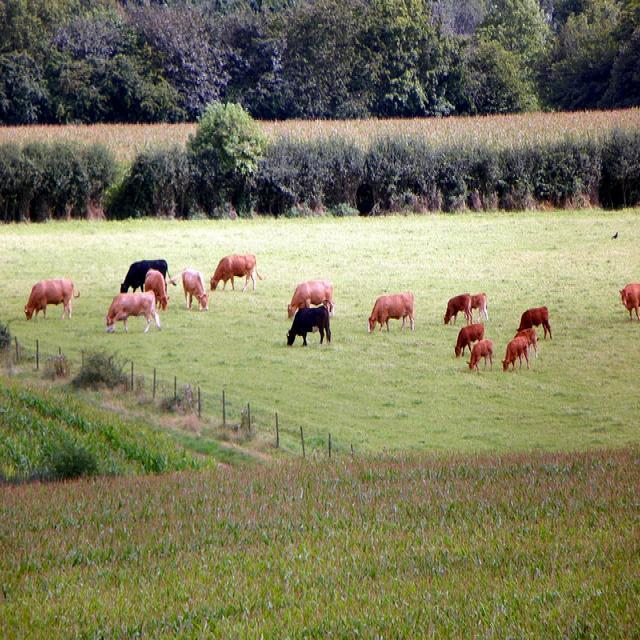cow: (143, 268, 553, 339), (22, 276, 78, 319), (105, 289, 159, 331), (365, 289, 413, 332), (285, 303, 330, 345), (209, 254, 261, 290), (169, 265, 208, 311), (119, 259, 175, 291), (286, 279, 332, 317), (500, 333, 529, 371), (455, 324, 483, 359), (465, 336, 492, 371), (618, 281, 639, 320), (511, 328, 536, 347)
